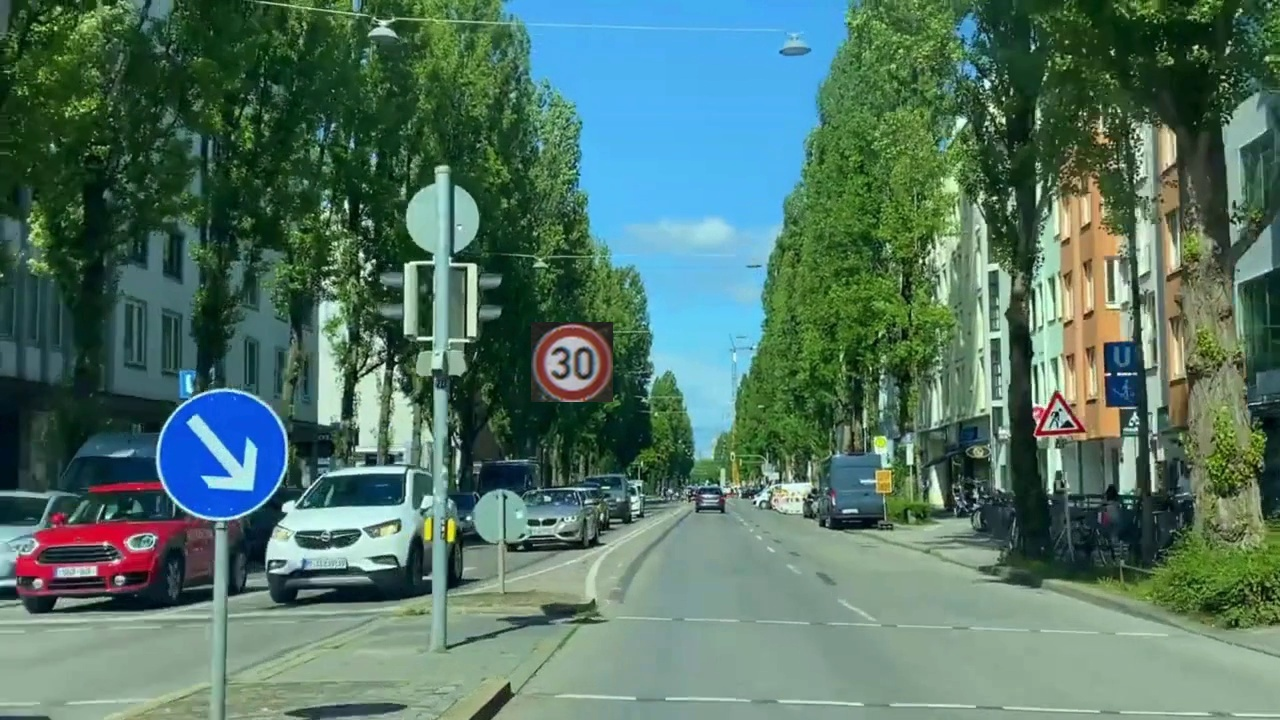Speed 30: (531, 322, 613, 402)
